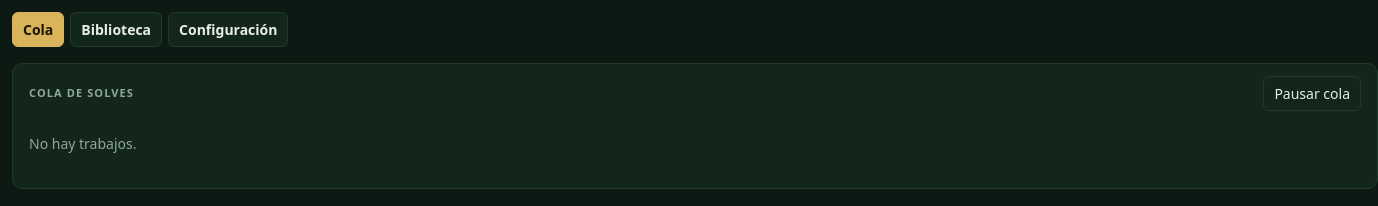
Scenario: SolverPage › shows an error when the status cannot be loaded
Step 1. Click the tab "Configuración" → {"x": 228, "y": 30}, box [168,12,288,47]
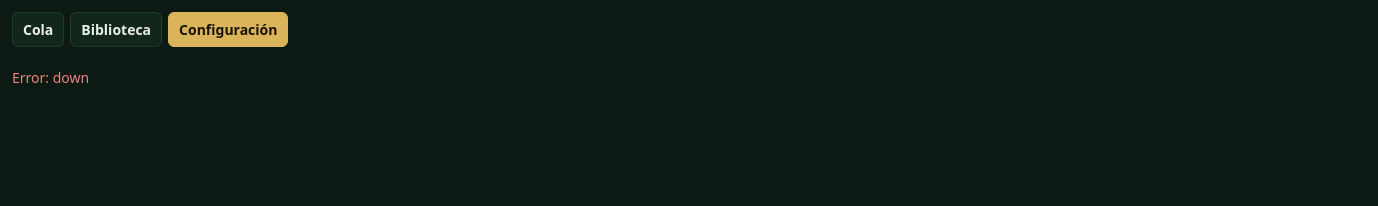
Check: the text "Error: down" is shown, box [12,68,89,87]
